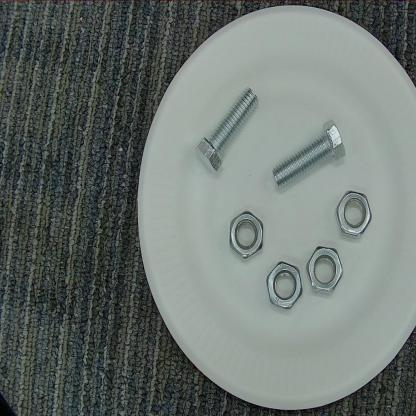FOD: (194, 79, 260, 181), (269, 116, 348, 192), (224, 205, 268, 263), (333, 186, 374, 242), (304, 242, 345, 298), (265, 258, 304, 315)
